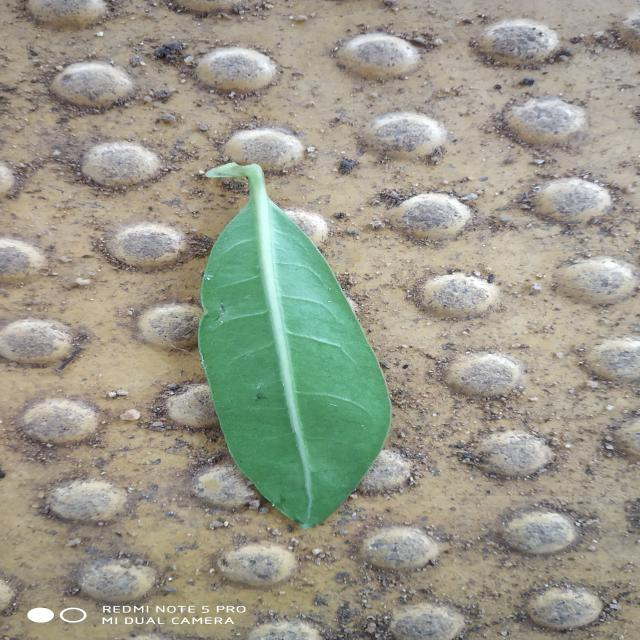nooni: (198, 162, 391, 528)
